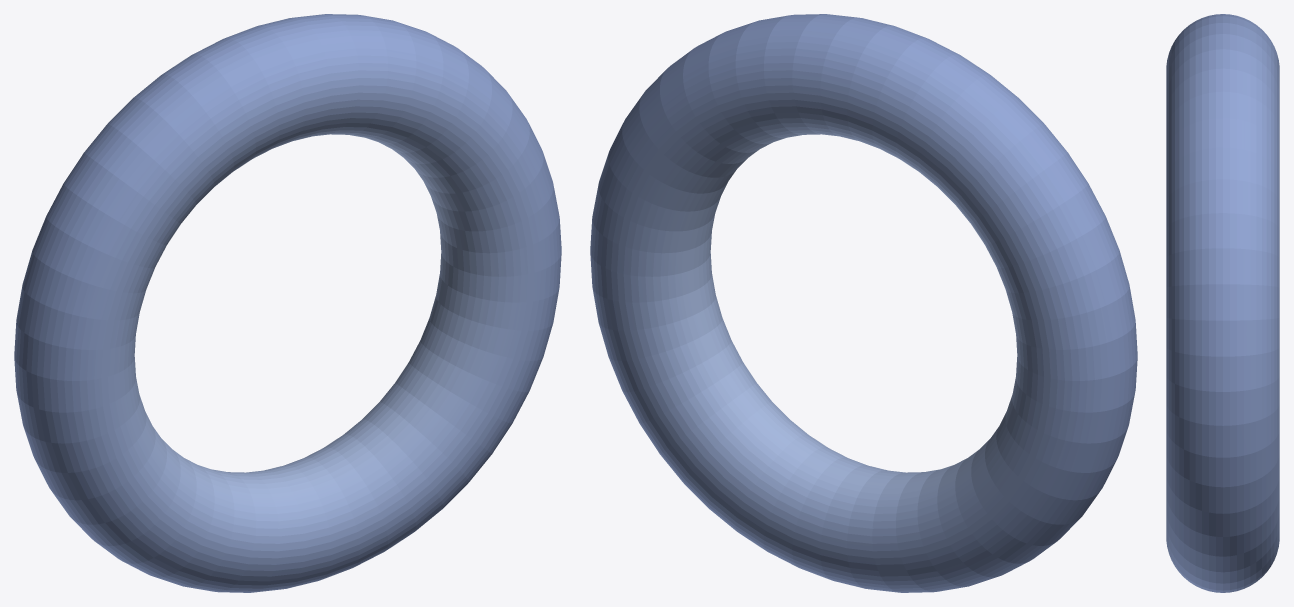
The picture shows the model from 3 angles, left to right: view 1: azimuth 30°, elevation 25°; view 2: azimuth 150°, elevation 25°; view 3: azimuth 270°, elevation 25°; orthographic projection. The views are drawn at different scales.
Parts seen in each view (by area): view 1: world; view 2: world; view 3: world.
Part boxes in pixels (x1,y1,x2,y2): world: (14,14,561,592); world: (590,14,1137,592); world: (1166,14,1279,592).
Bounding box in the file's own units: 22.4 × 22.36 × 4.39.
